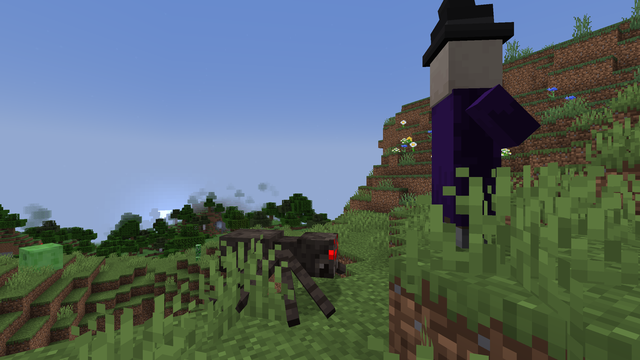araignees: (230, 219, 356, 327)
creepers: (195, 243, 201, 260)
slimes: (17, 241, 62, 274)
sorcieres: (417, 20, 512, 254)
